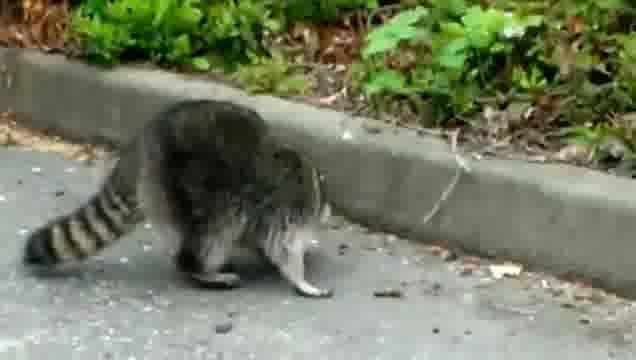raccoon: (23, 99, 338, 299)
